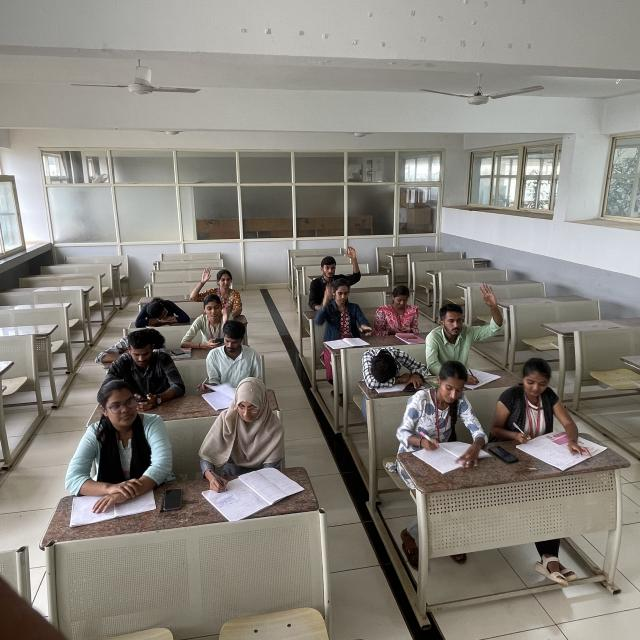Hand Rising: (423, 279, 504, 370), (312, 234, 368, 302), (188, 262, 244, 316)
Sleeping: (90, 326, 177, 366), (126, 290, 195, 332)
Using Phone: (180, 294, 240, 360), (367, 282, 424, 340)
Writing: (197, 376, 295, 494), (488, 353, 589, 462), (396, 358, 486, 469)
